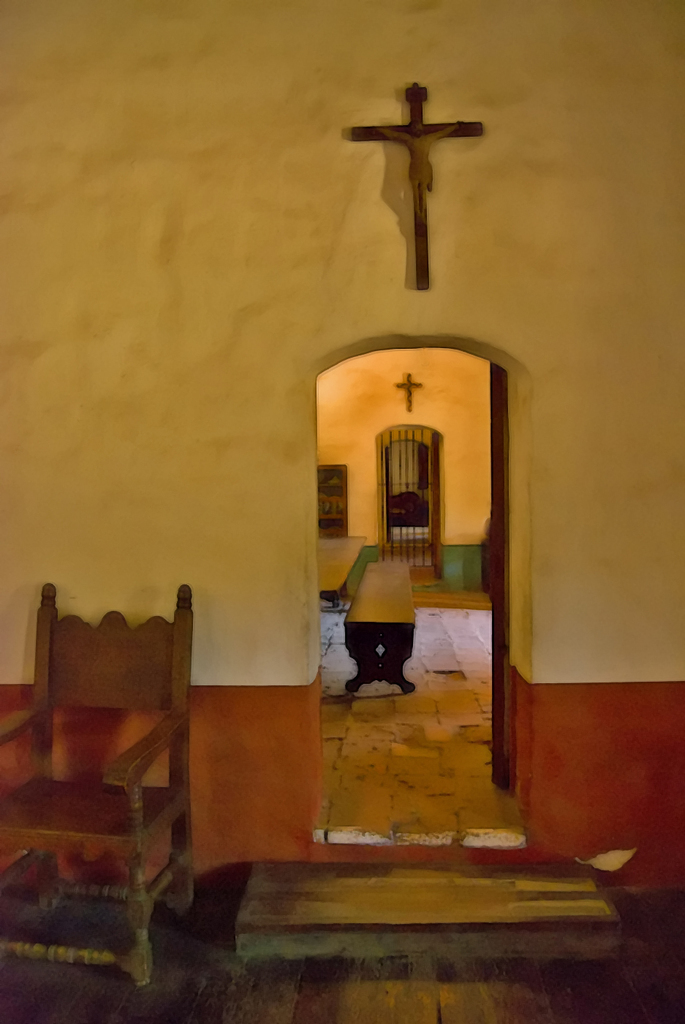Door: (484, 363, 510, 789)
